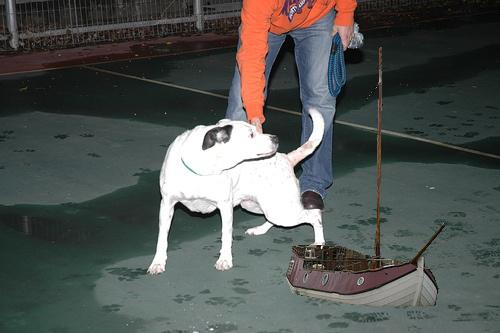tampered: (286, 48, 446, 306)
